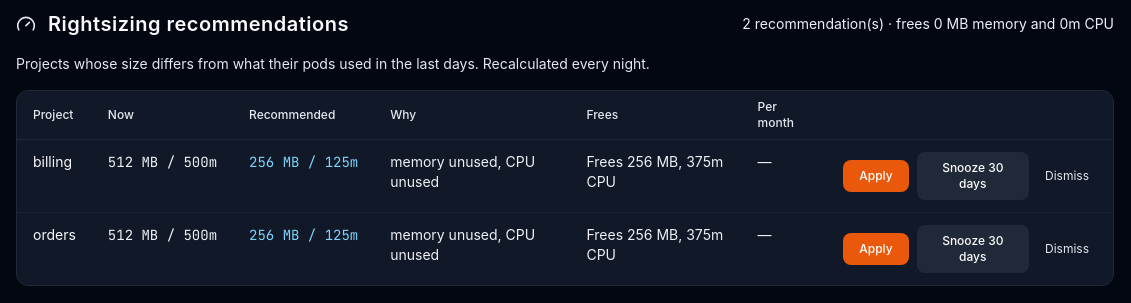
Test case: RightsizingView › applies and dismisses a row
Click the button with test id "rightsizing-row-apply" in the row of "billing". click: (876, 176)
box: 843,160 -> 909,192
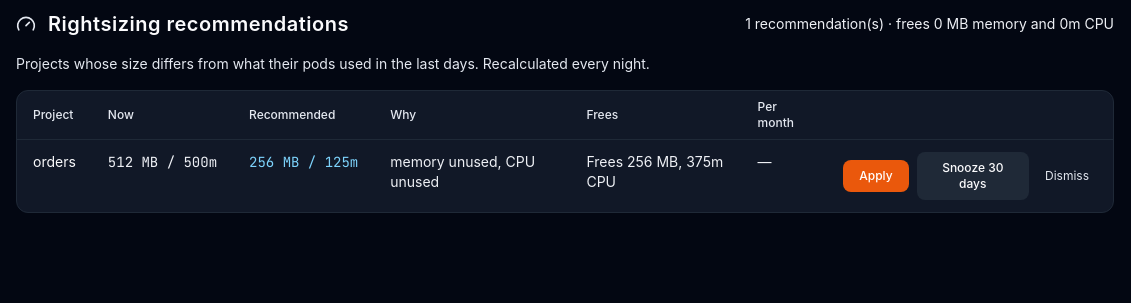
Click the button with test id "rightsizing-row-snooze". click: (973, 176)
box: 917,152 -> 1029,200
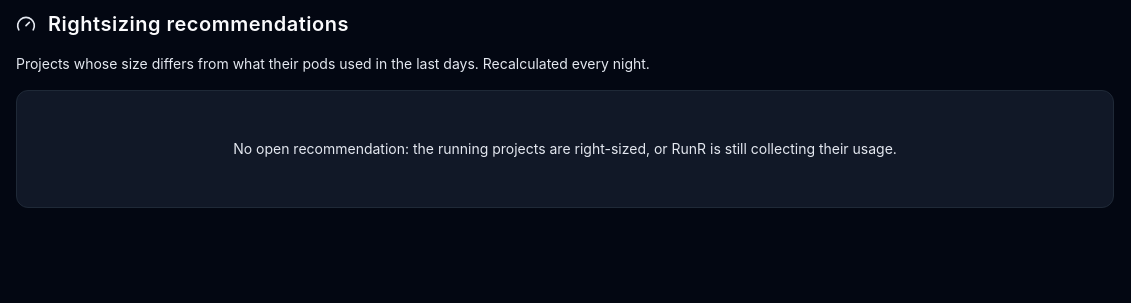
Now the text with test id "rightsizing-empty" is shown, box 16,90 -> 1114,208
